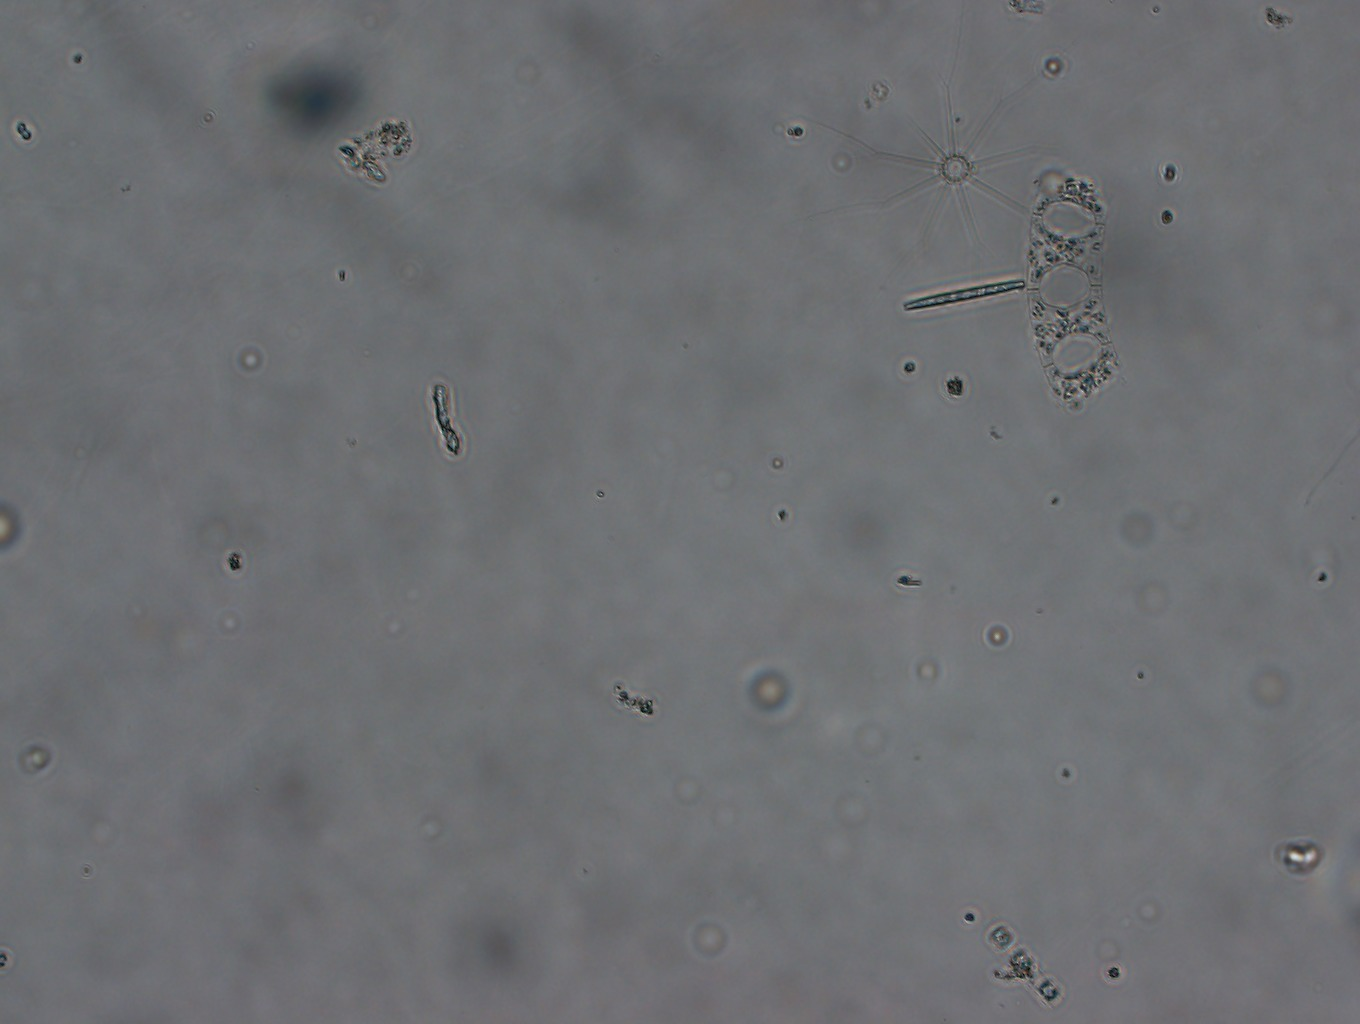bacteriastrum: (831, 46, 1069, 278)
eucampia: (1019, 142, 1143, 417)
skeletonema: (979, 918, 1066, 1012)
